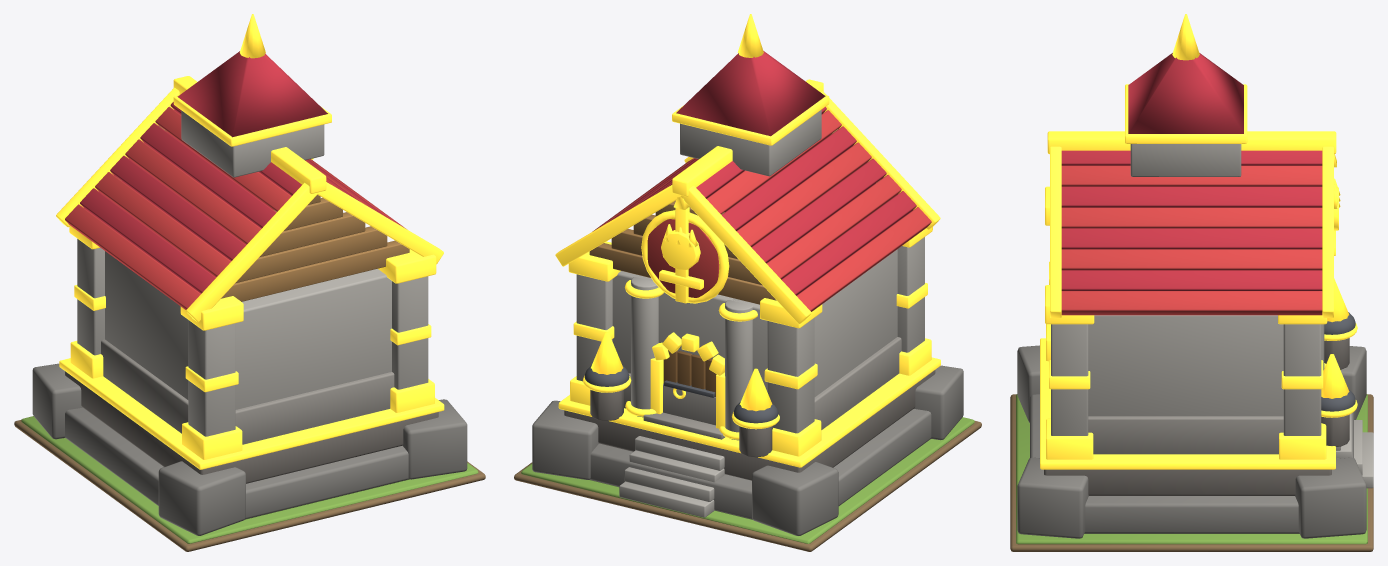
File: capital_hall.glb
3 views of the same model, side by side, from view 1: azimuth 30°, elevation 25°; view 2: azimuth 150°, elevation 25°; view 3: azimuth 270°, elevation 25° (orthographic). The views are drawn at different scales.
Visible parts, largest first — view 1: CH_CitadelCore, CH_MountainTier1, CH_CitadelLowerWainscot, CH_CupolaRoof, CH_MountainTier2, CH_GoldPlinthTrim, Base_Grass, CH_CliffRock_-1_-1, CH_PillarShaft_-1_-1, Base_Dirt, CH_CupolaBase, CH_CliffRock_1_-1 (+27 smaller); view 2: CH_CitadelCore, CH_MountainTier1, CH_CupolaRoof, CH_MountainTier2, CH_CliffRock_-1_1, CH_CitadelLowerWainscot, CH_GoldPlinthTrim, Base_Grass, CH_PillarShaft_-1_1, Base_Dirt, CH_CupolaBase, CH_CliffRock_1_1 (+42 smaller); view 3: CH_CitadelCore, CH_MountainTier1, CH_CupolaRoof, CH_CitadelLowerWainscot, RoofSlope_1_7, CH_MountainTier2, RoofSlope_1_2, RoofSlope_1_4, RoofSlope_1_5, RoofSlope_1_3, RoofSlope_1_6, CH_GoldPlinthTrim (+27 smaller).
Part boxes in pixels (x1,y1,x2,y2): CH_CitadelCore: (105,251,391,409); CH_MountainTier1: (65,407,408,519); CH_CitadelLowerWainscot: (101,339,394,444); CH_CupolaRoof: (177,51,327,137); CH_MountainTier2: (65,371,438,483); CH_GoldPlinthTrim: (59,358,444,469); Base_Grass: (21,416,478,543); CH_CliffRock_-1_-1: (158,461,245,535); CH_PillarShaft_-1_-1: (188,320,235,436); Base_Dirt: (14,419,485,551); CH_CupolaBase: (181,110,324,177); CH_CliffRock_1_-1: (403,399,467,479); CH_CitadelCore: (612,249,897,396); CH_MountainTier1: (590,409,931,519); CH_CupolaRoof: (676,51,825,136); CH_MountainTier2: (564,370,935,480); CH_CliffRock_-1_1: (752,462,838,535); CH_CitadelLowerWainscot: (624,337,901,429); CH_GoldPlinthTrim: (558,357,940,467); Base_Grass: (521,417,974,543); CH_PillarShaft_-1_1: (767,318,814,433); Base_Dirt: (514,421,981,551); CH_CupolaBase: (680,110,821,176); CH_CliffRock_1_1: (532,400,598,479); CH_CitadelCore: (1088,315,1283,416); CH_MountainTier1: (1030,394,1353,533); CH_CupolaRoof: (1128,53,1243,133); CH_CitadelLowerWainscot: (1088,416,1283,454); RoofSlope_1_7: (1061,291,1322,315); CH_MountainTier2: (1044,469,1331,495); RoofSlope_1_2: (1061,186,1322,207); RoofSlope_1_4: (1061,228,1322,249); RoofSlope_1_5: (1061,249,1322,270); RoofSlope_1_3: (1061,207,1322,228); RoofSlope_1_6: (1061,270,1322,290); CH_GoldPlinthTrim: (1040,338,1335,469).
Size of the model in its own units: 3.68 by 5.17 by 3.68.
